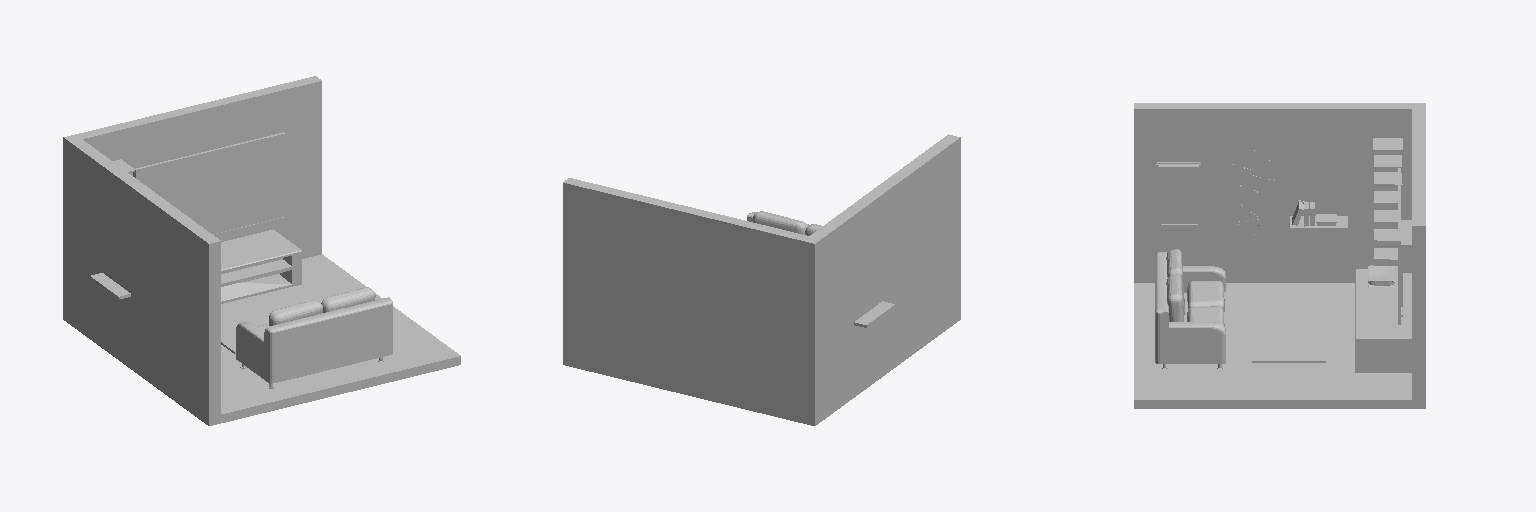
The model's file is Gaming.obj.
3 renders of one model, left to right at view 1: azimuth 30°, elevation 25°; view 2: azimuth 150°, elevation 25°; view 3: azimuth 270°, elevation 25°, orthographic.
Visible parts, largest first — view 1: Plane, Plane.002, gtaV_intro, Cube, Cube.004; view 2: Plane, Plane.002; view 3: Plane, Plane.002, Cube, Cube.001, Cube.004, photo-[number redacted]-4f376d39d787, Plane.014, Plane.001, Cube.003.
Part boxes in pixels (x1,y1,x2,y2): Plane: (63,76,460,425); Plane.002: (236,287,392,388); gtaV_intro: (137,134,283,233); Cube: (221,230,301,303); Cube.004: (221,302,293,353); Plane: (563,134,960,425); Plane.002: (747,211,821,235); Plane: (1134,103,1425,408); Plane.002: (1155,249,1225,368); Cube: (1355,269,1411,372); Cube.001: (1372,138,1402,268); Cube.004: (1252,316,1325,362); photo-[number redacted]-4f376d39d787: (1159,164,1198,226); Plane.014: (1231,150,1275,236); Plane.001: (1398,168,1411,324); Cube.003: (1368,265,1394,286).
Size of the model in its own units: 10.59 by 7.22 by 10.09.